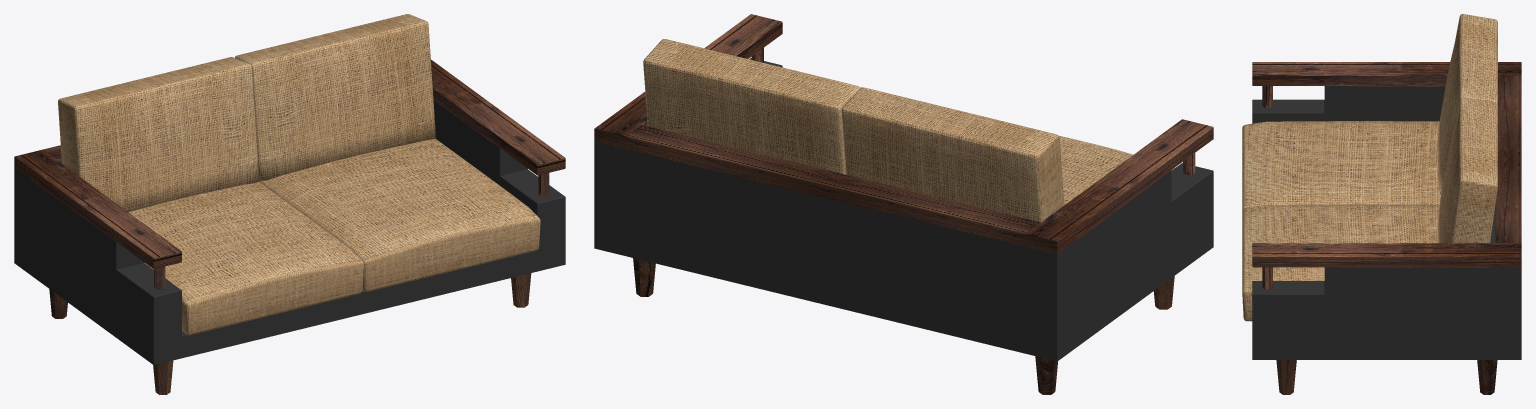
Rendered from Coq_funiture_Sofa_double01.fbx.
3 renders of one model, left to right at view 1: azimuth 30°, elevation 25°; view 2: azimuth 150°, elevation 25°; view 3: azimuth 270°, elevation 25°, orthographic. The views are drawn at different scales.
Parts seen in each view (by area): view 1: cussion, base; view 2: base, cussion; view 3: base, cussion.
Part boxes in pixels (x1,y1,x2,y2): cussion: (58,14,540,335); base: (14,59,565,394); base: (594,14,1213,394); cussion: (643,39,1174,222); base: (1252,62,1521,394); cussion: (1242,14,1497,321).
Bounding box in the file's own units: 786 × 398 × 477.
